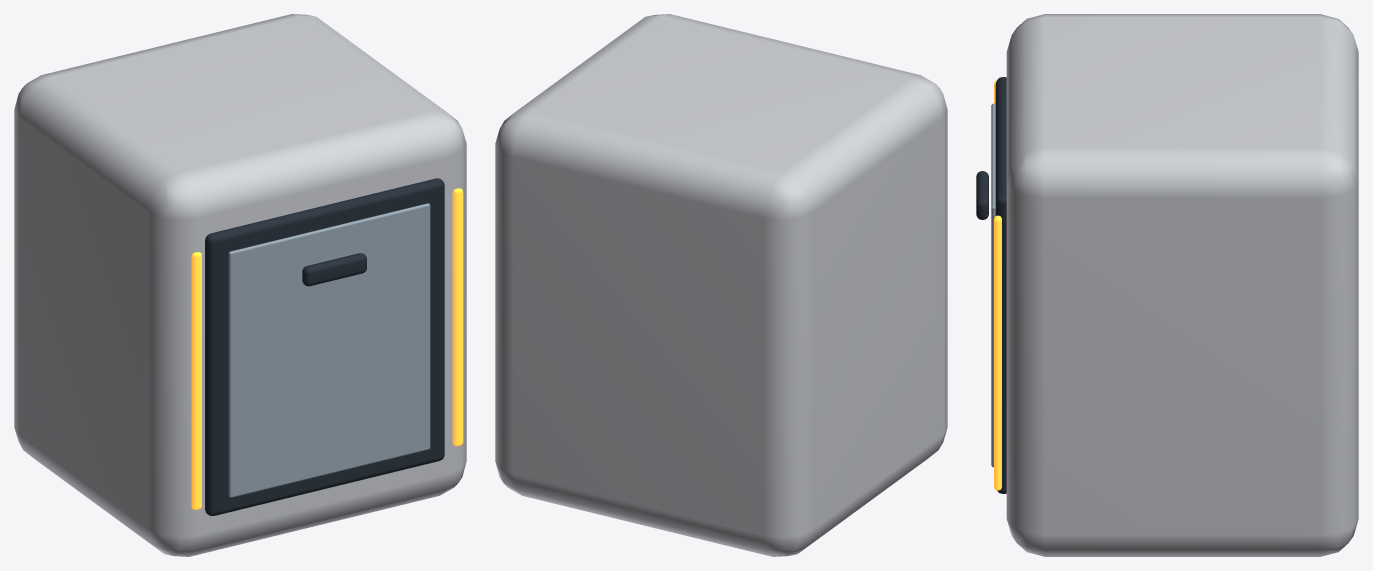
Rendered from CargoPod.glb.
The picture shows the model from 3 angles, left to right: view 1: azimuth 30°, elevation 25°; view 2: azimuth 150°, elevation 25°; view 3: azimuth 270°, elevation 25°; orthographic projection. The views are drawn at different scales.
Visible parts, largest first — view 1: CargoBody, CargoInset, CargoPanel, CargoStrip.001, CargoStrip, CargoHandle; view 2: CargoBody; view 3: CargoBody, CargoPanel, CargoStrip.001, CargoInset, CargoHandle.
Boxes of the visible parts, left/top/right/bottom form: CargoBody: left=14, top=14, right=466, bottom=556; CargoInset: left=228, top=203, right=430, bottom=497; CargoPanel: left=205, top=178, right=444, bottom=515; CargoStrip.001: left=452, top=188, right=463, bottom=446; CargoStrip: left=191, top=252, right=201, bottom=509; CargoHandle: left=302, top=253, right=366, bottom=286; CargoBody: left=495, top=14, right=947, bottom=556; CargoBody: left=1006, top=14, right=1358, bottom=556; CargoPanel: left=995, top=77, right=1006, bottom=493; CargoStrip.001: left=994, top=215, right=1001, bottom=490; CargoInset: left=991, top=103, right=995, bottom=467; CargoHandle: left=976, top=171, right=988, bottom=219.
Size of the model in its own units: 1.2 by 1.4 by 1.2.
